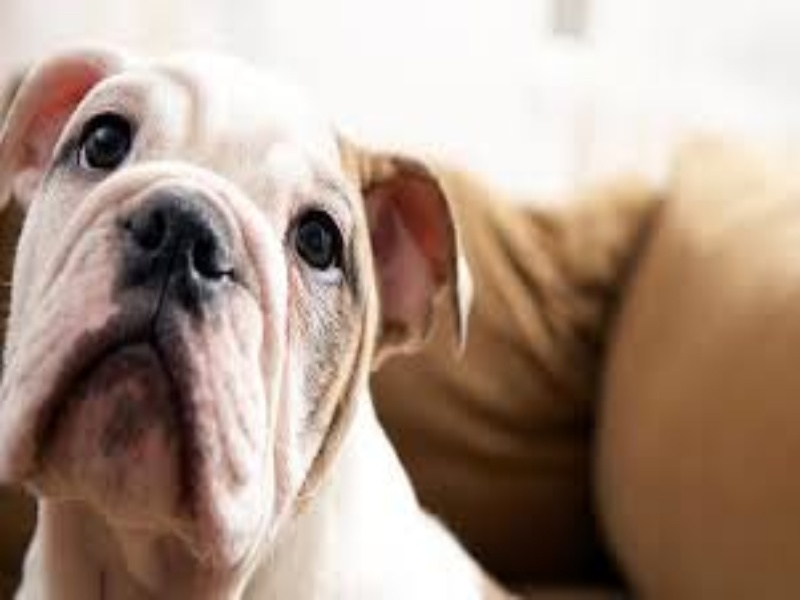dog: (1, 37, 474, 600)
